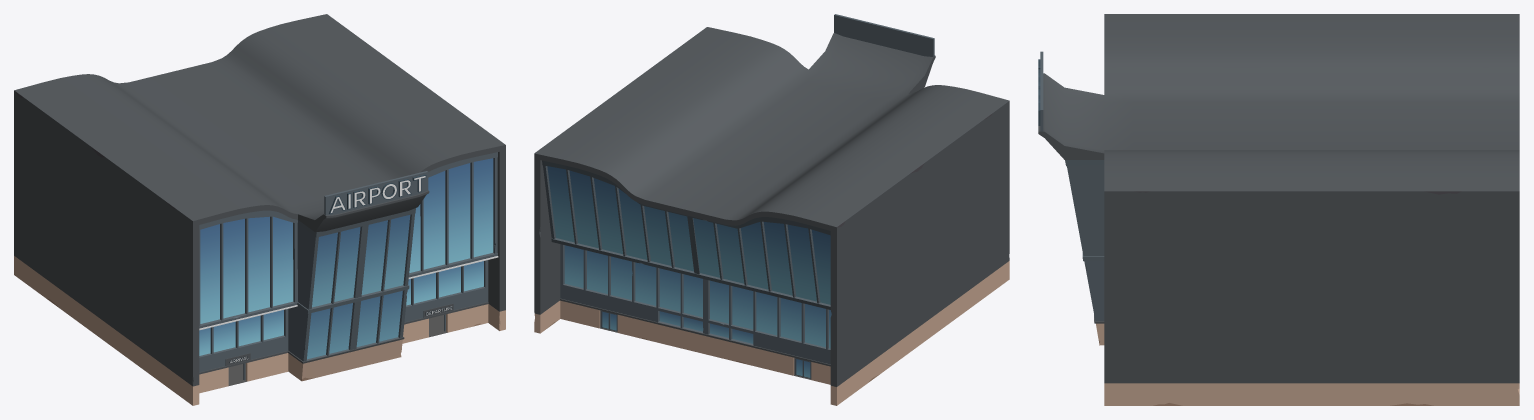
File: SM_Buildings_Airport_01.fbx
The picture shows the model from 3 angles, left to right: view 1: azimuth 30°, elevation 25°; view 2: azimuth 150°, elevation 25°; view 3: azimuth 270°, elevation 25°; orthographic projection. The views are drawn at different scales.
Visible parts, largest first — view 1: SM_Buildings_Airport_01; view 2: SM_Buildings_Airport_01; view 3: SM_Buildings_Airport_01.
Boxes of the visible parts, x1,y1,x2,y2 form: SM_Buildings_Airport_01: (14,14,505,405); SM_Buildings_Airport_01: (534,14,1009,405); SM_Buildings_Airport_01: (1038,14,1519,405).
Size of the model in its own units: 41.64 by 25.88 by 47.76.
